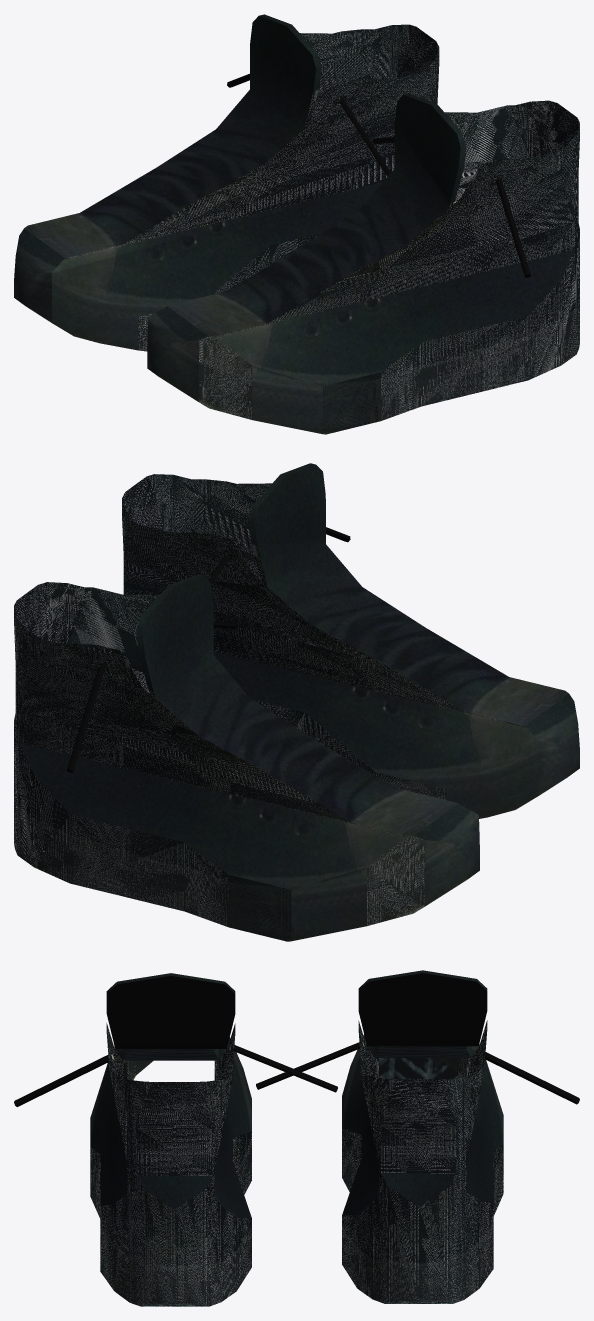
File: boys_shoe.dae
3 renders of one model, top to bottom at view 1: azimuth 30°, elevation 25°; view 2: azimuth 150°, elevation 25°; view 3: azimuth 270°, elevation 25°, orthographic. The views are drawn at different scales.
Parts seen in each view (by area): view 1: skp4CB0 (×10); view 2: skp4CB0 (×9); view 3: skp4CB0 (×17).
Boxes of the visible parts, x1,y1,x2,y2 form: skp4CB0 (×10): [14, 14, 579, 434]; skp4CB0 (×9): [14, 463, 579, 941]; skp4CB0 (×17): [14, 970, 579, 1306].
Size of the model in its own units: 69.32 by 77.13 by 41.37.
6 materials, 3 textured.
